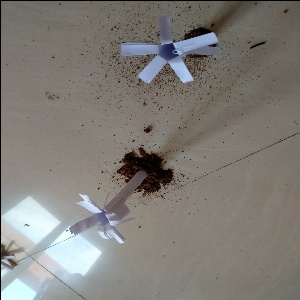weed: (118, 13, 227, 90), (70, 168, 156, 242)
